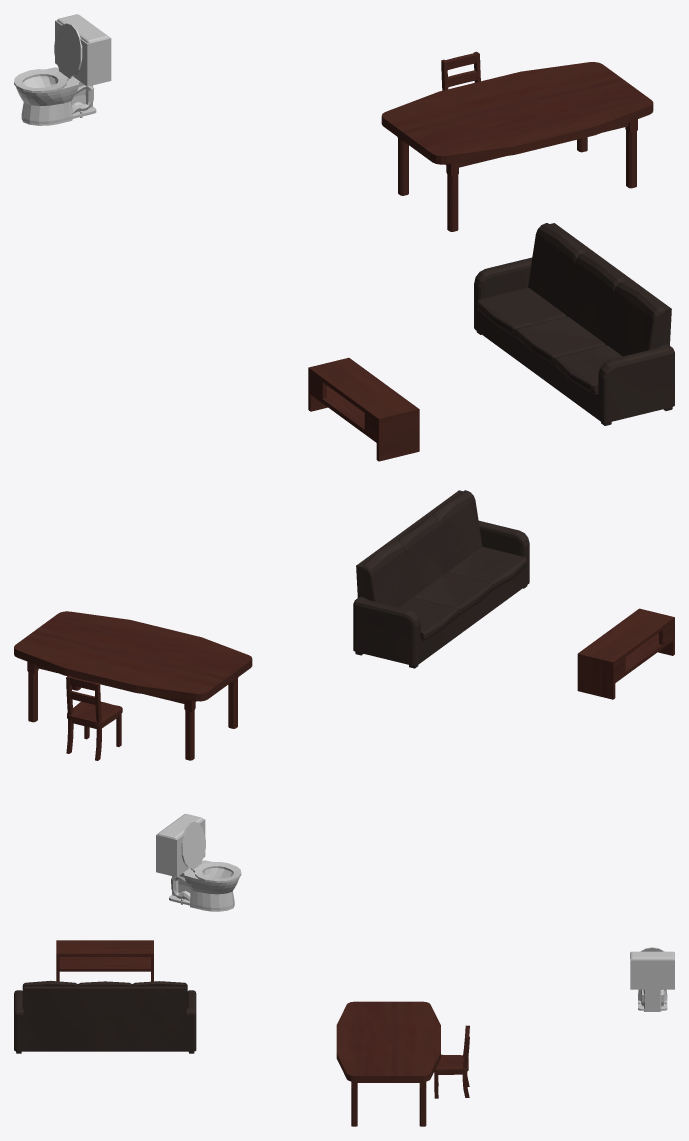
The model's file is Seating.fbx.
3 renders of one model, top to bottom at view 1: azimuth 30°, elevation 25°; view 2: azimuth 150°, elevation 25°; view 3: azimuth 270°, elevation 25°, orthographic. The views are drawn at different scales.
Parts seen in each view (by area): view 1: Couch_0, WoodTable_Model, WoodShelf_0, Toilet_Model, Toilet_Clip, Table_Chair_0; view 2: Couch_0, WoodTable_Model, WoodShelf_0, Toilet_Model, Table_Chair_0, Toilet_Clip; view 3: Couch_0, WoodTable_Model, WoodShelf_0, Toilet_Clip, Table_Chair_0, Toilet_Model.
Part boxes in pixels (x1,y1,x2,y2): Couch_0: (474,223,674,425); WoodTable_Model: (381,62,653,231); WoodShelf_0: (308,357,419,461); Toilet_Model: (14,14,108,124); Toilet_Clip: (21,15,111,125); Table_Chair_0: (441,51,480,90); Couch_0: (353,490,529,668); WoodTable_Model: (14,611,252,760); WoodShelf_0: (577,608,674,699); Toilet_Model: (158,814,241,910); Table_Chair_0: (66,675,122,760); Toilet_Clip: (156,815,234,911); Couch_0: (14,980,196,1053); WoodTable_Model: (336,1001,440,1126); WoodShelf_0: (56,940,153,981); Toilet_Clip: (630,952,674,1011); Table_Chair_0: (434,1025,469,1098); Toilet_Model: (630,947,674,1010).
Bounding box in the file's own units: 6 × 1.29 × 10.14.
